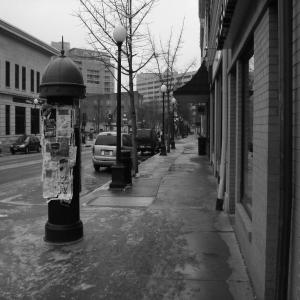Vehicle-registration-plate: (105, 151, 111, 156)
